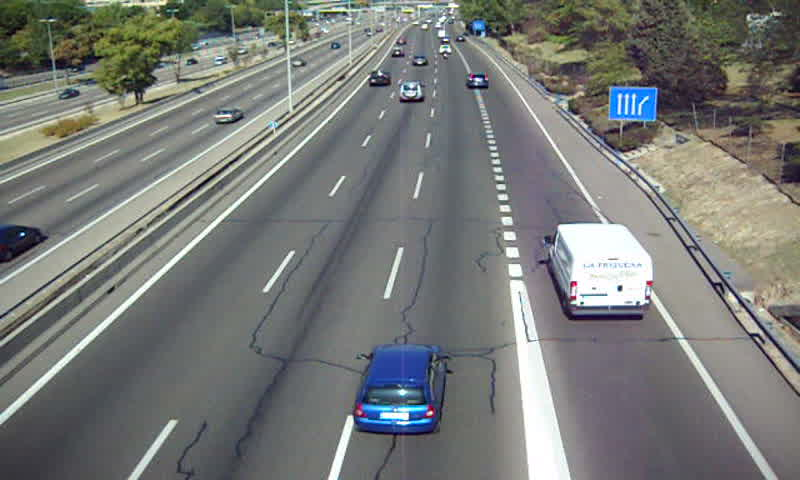car: (354, 345, 446, 432), (397, 83, 425, 104), (466, 74, 492, 90), (368, 70, 391, 88)
van: (543, 224, 652, 317)
